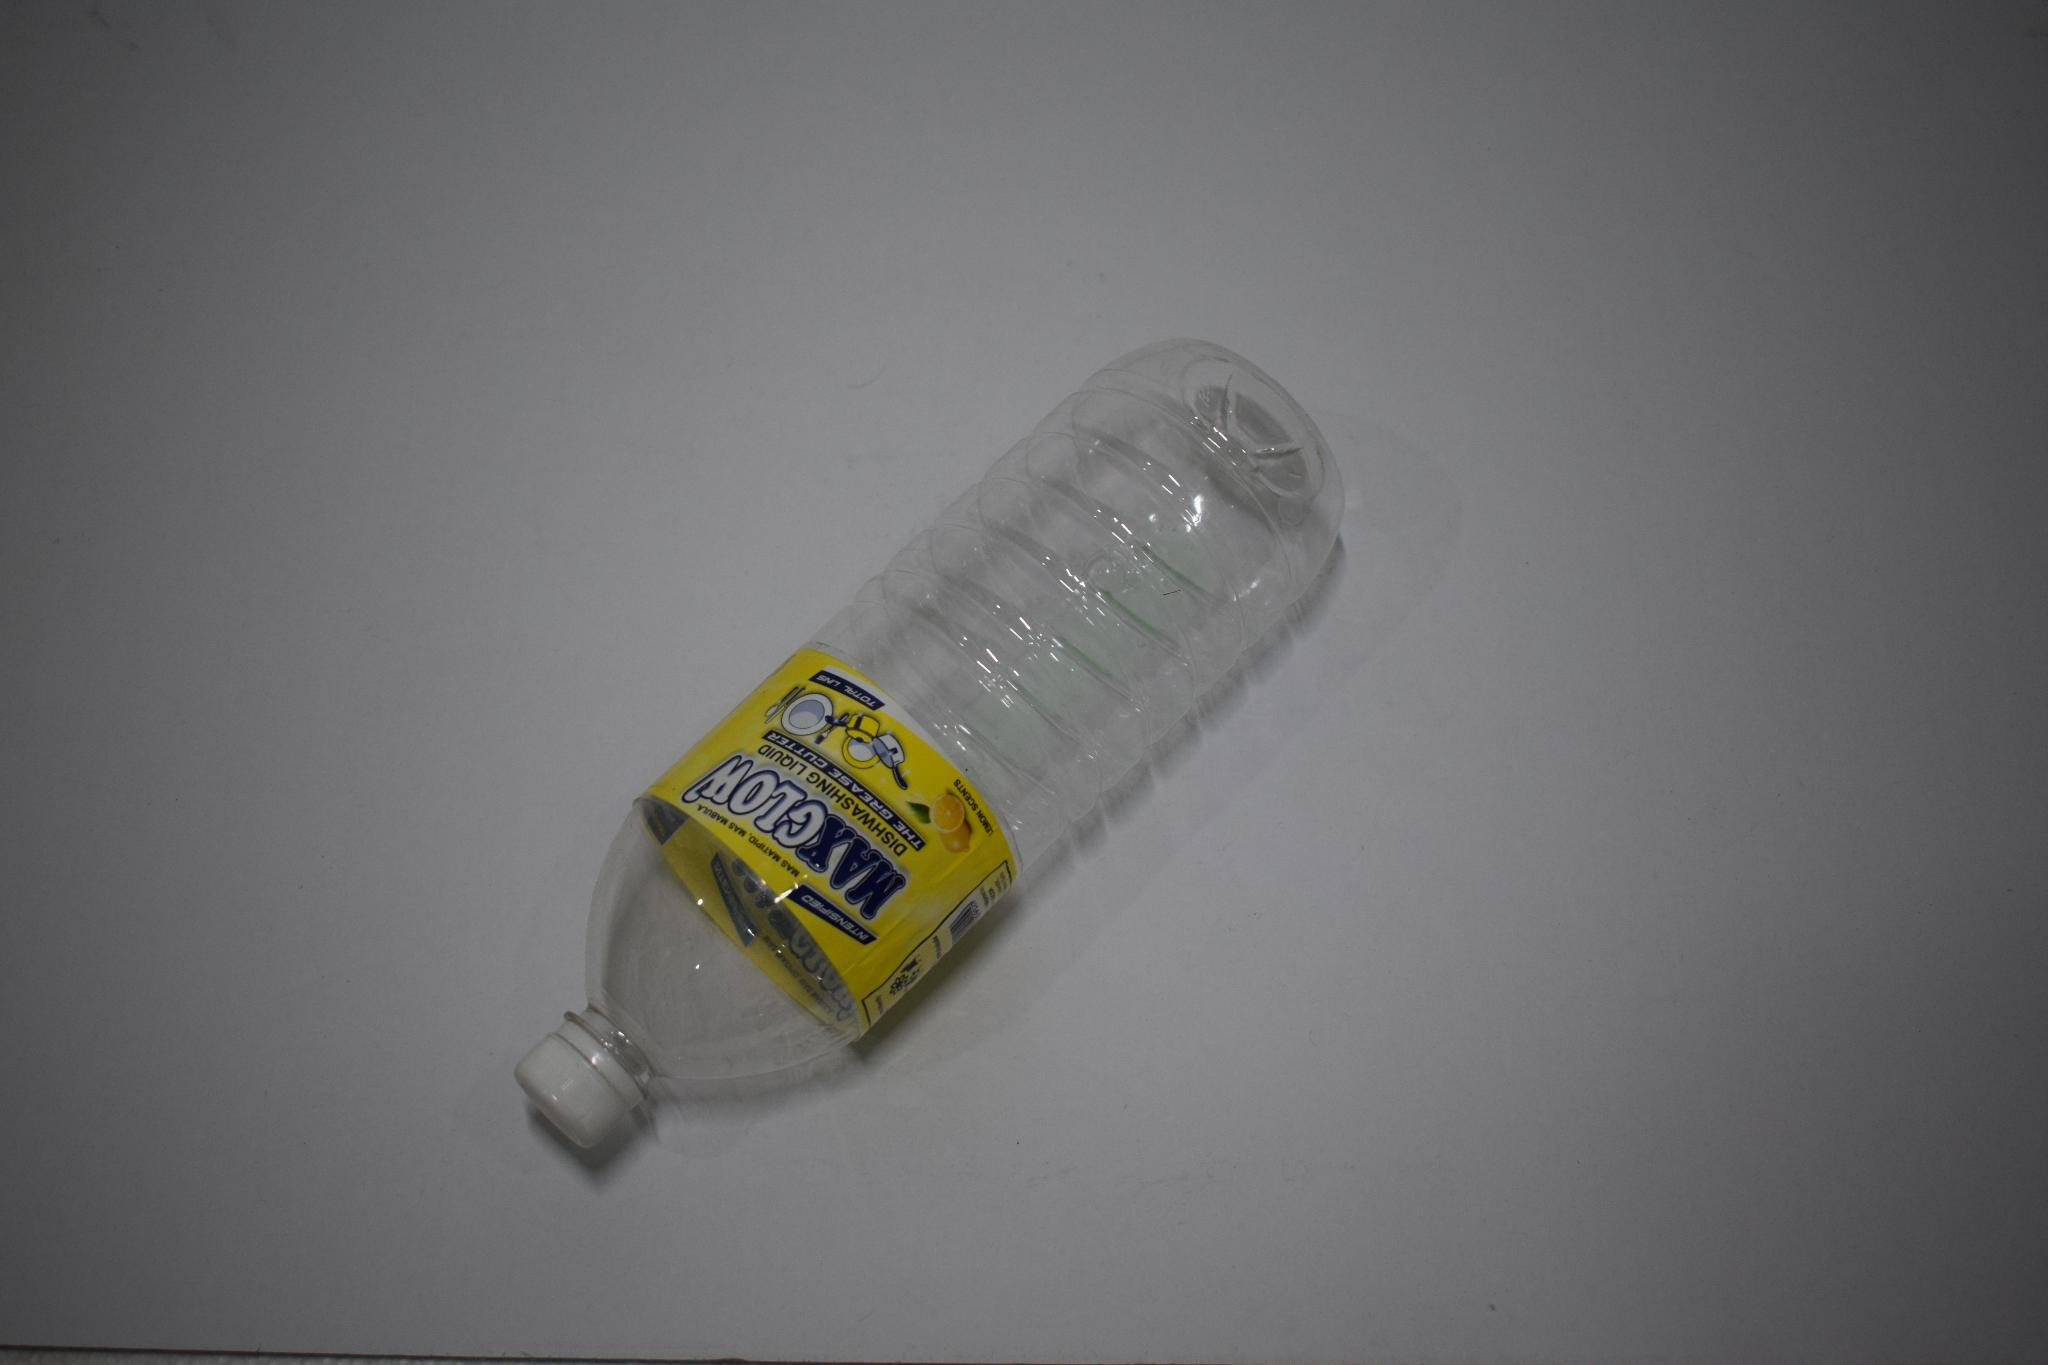bottle: (483, 323, 1363, 1190)
